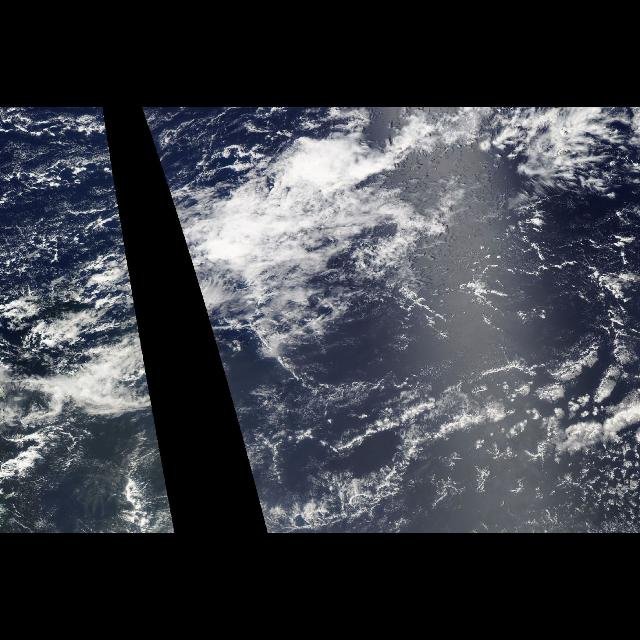Gravel: (428, 204, 640, 390), (0, 107, 120, 267)
